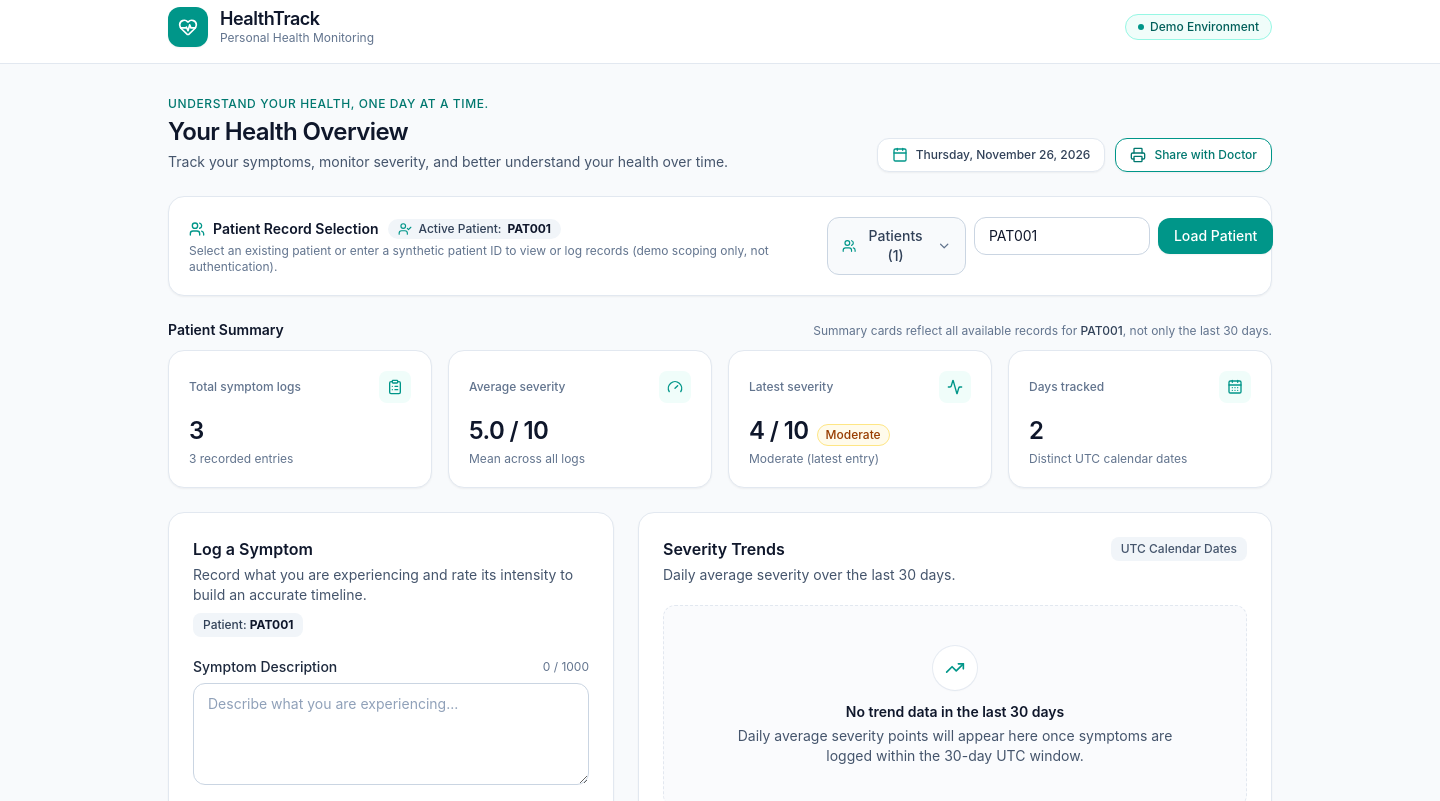
Scenario: HealthTrack Dashboard › submits valid symptom, sends correct payload, and updates history
The width and height of the screenshot is (1440, 801).
In the text box labelled "Symptom Description": (391, 734) [193,683,589,785], type "  Mild tension headache  "
(page scrolled)
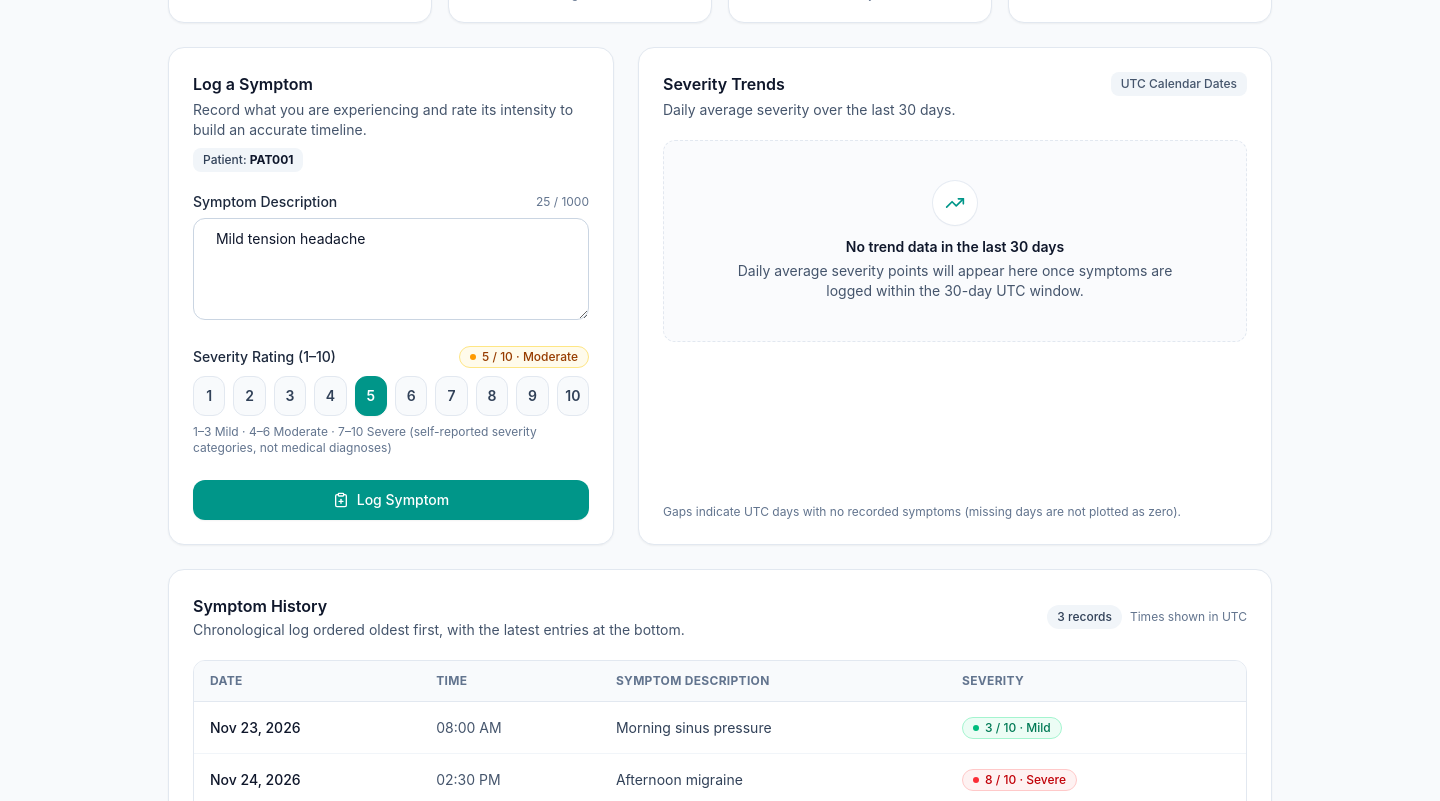
Click the radio button labelled "7": (452, 396) [435,376,468,416]
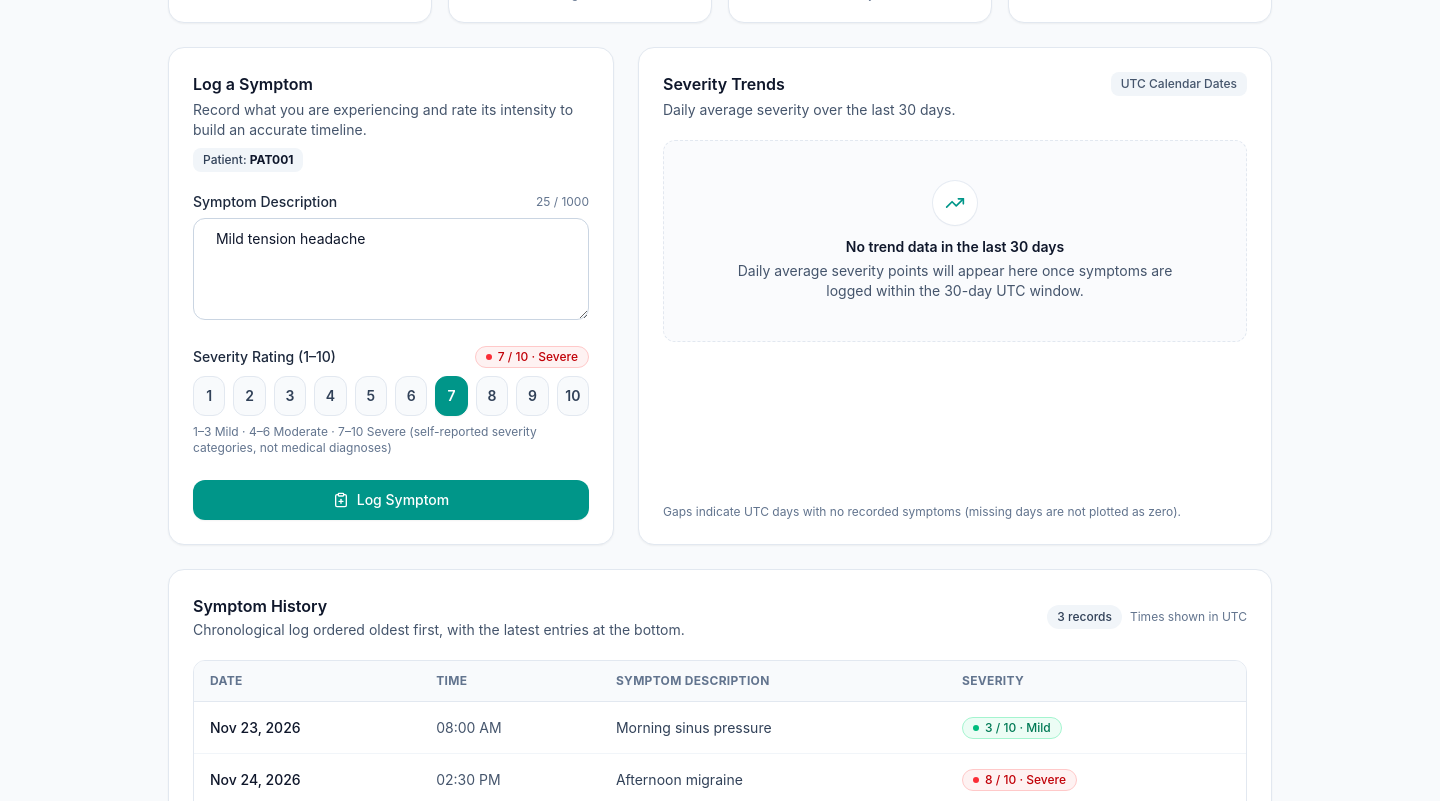
Click the button "Log Symptom": (391, 500) [193,480,589,520]
(page scrolled)
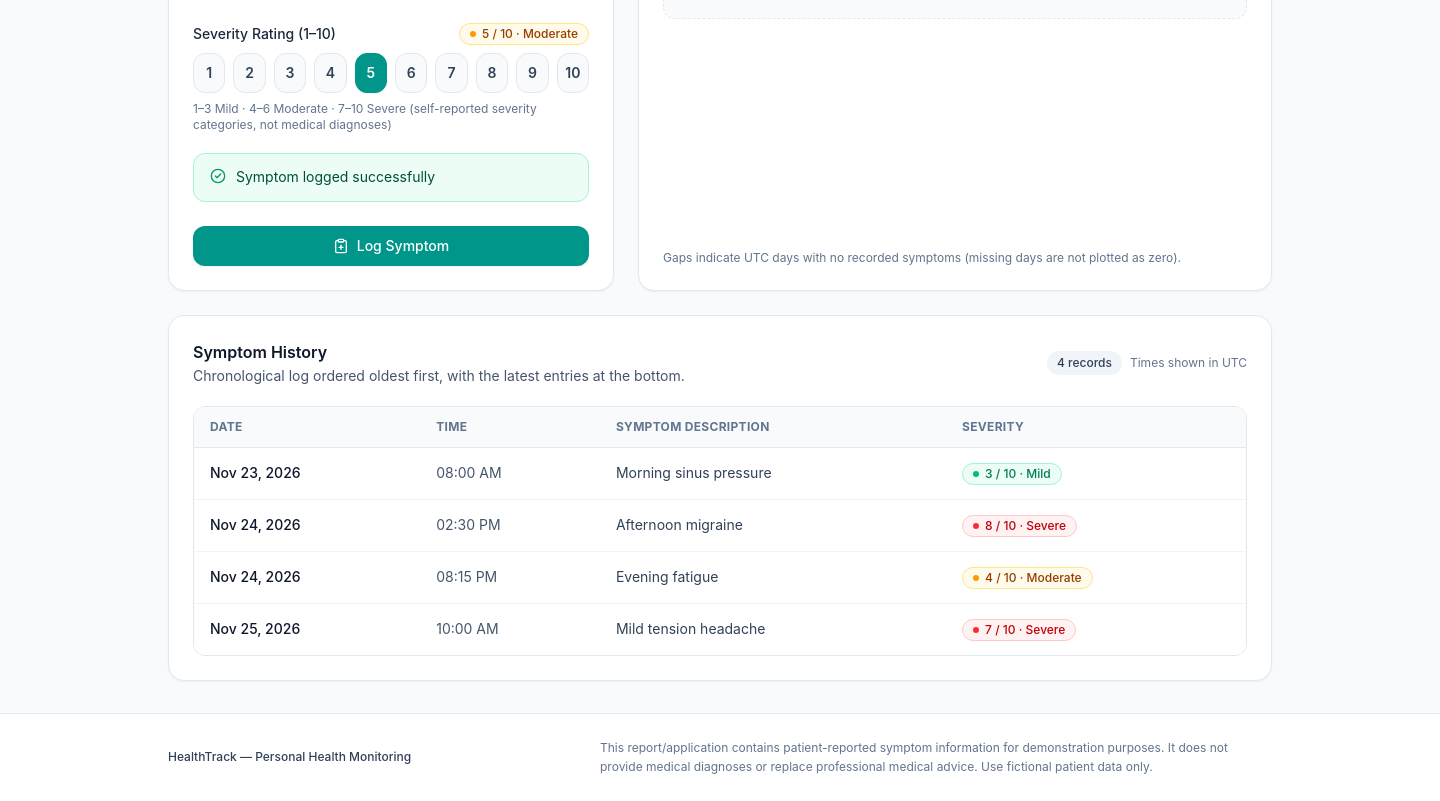
Now the text "Symptom logged successfully" is shown, box [236,166,435,189]
Now the row "Nov 25, 2026 10:00 AM Mild tension headache 7 / 10 · Severe" is shown, box [194,603,1246,655]
